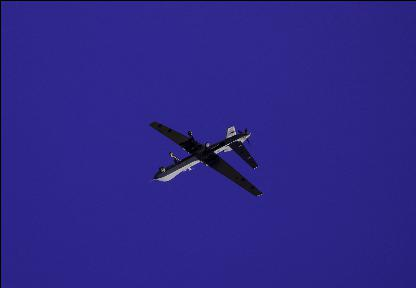MQ9: (148, 119, 264, 195)
